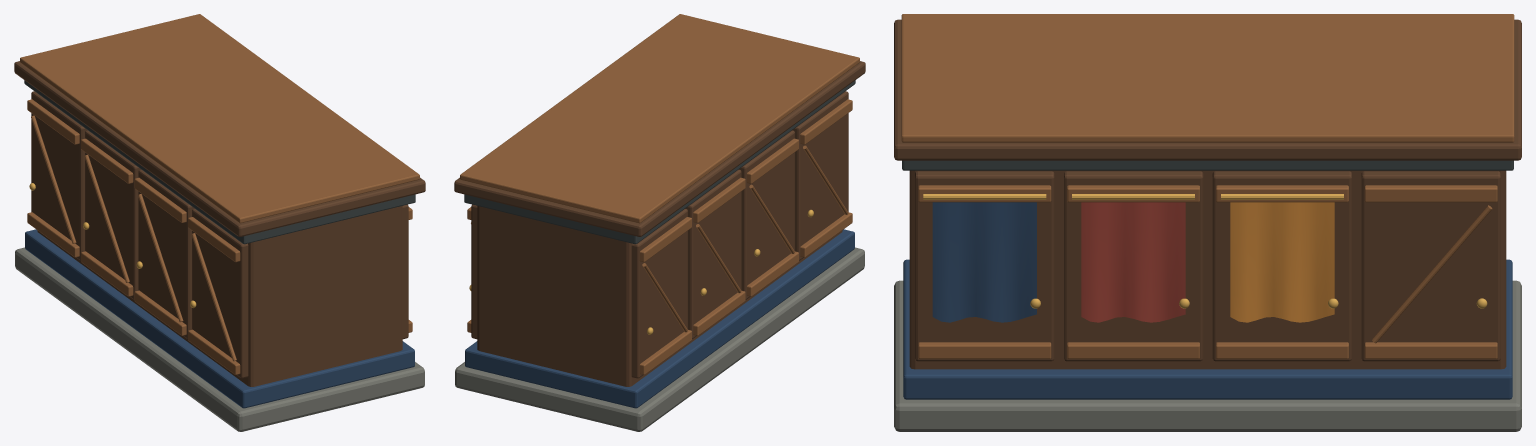
The model's file is cover-dye-cabinet.glb.
3 views of the same model, side by side, from view 1: azimuth 30°, elevation 25°; view 2: azimuth 150°, elevation 25°; view 3: azimuth 270°, elevation 25° (orthographic). The views are drawn at different scales.
Parts seen in each view (by area): view 1: Copper flashing, Shuttered timber case, Cabinet stone feet, Painted toe rail, Capped shutter ridge, Joined door.004, Joined door.005, Joined door.007, Joined door.006, Shadow under eave, Joined door, Framed shutter rail.011 (+11 smaller); view 2: Copper flashing, Shuttered timber case, Cabinet stone feet, Painted toe rail, Joined door.007, Capped shutter ridge, Joined door.004, Joined door.006, Joined door.005, Shadow under eave, Joined door.003, Framed shutter rail.013 (+7 smaller); view 3: Copper flashing, Cabinet stone feet, Joined door.003, Painted toe rail, Shuttered timber case, Capped shutter ridge, Dyed sample | 0, Dyed sample | 1, Dyed sample | 2, Joined door.001, Joined door.002, Joined door (+13 smaller).
Part boxes in pixels (bbox=[...]): Copper flashing: bbox=[20, 14, 419, 223]; Shuttered timber case: bbox=[37, 206, 402, 386]; Cabinet stone feet: bbox=[15, 247, 424, 431]; Painted toe rail: bbox=[25, 229, 414, 408]; Capped shutter ridge: bbox=[14, 61, 425, 236]; Joined door.004: bbox=[192, 209, 248, 378]; Joined door.005: bbox=[138, 169, 194, 338]; Joined door.007: bbox=[31, 91, 87, 260]; Joined door.006: bbox=[85, 130, 140, 299]; Shadow under eave: bbox=[24, 80, 415, 244]; Joined door: bbox=[402, 204, 408, 339]; Framed shutter rail.011: bbox=[134, 177, 186, 222]; Copper flashing: bbox=[460, 14, 859, 223]; Shuttered timber case: bbox=[477, 206, 842, 386]; Cabinet stone feet: bbox=[455, 247, 864, 431]; Painted toe rail: bbox=[465, 229, 854, 408]; Joined door.007: bbox=[631, 209, 687, 378]; Capped shutter ridge: bbox=[454, 61, 865, 236]; Joined door.004: bbox=[792, 91, 848, 260]; Joined door.006: bbox=[685, 169, 741, 338]; Joined door.005: bbox=[739, 130, 794, 299]; Shadow under eave: bbox=[464, 80, 855, 244]; Joined door.003: bbox=[471, 204, 477, 339]; Framed shutter rail.013: bbox=[693, 177, 745, 222]; Copper flashing: bbox=[901, 14, 1514, 142]; Cabinet stone feet: bbox=[894, 280, 1521, 431]; Joined door.003: bbox=[1361, 171, 1500, 361]; Painted toe rail: bbox=[903, 259, 1512, 399]; Shuttered timber case: bbox=[909, 170, 1506, 369]; Capped shutter ridge: bbox=[894, 19, 1521, 160]; Dyed sample | 0: bbox=[932, 202, 1036, 322]; Dyed sample | 1: bbox=[1081, 202, 1185, 322]; Dyed sample | 2: bbox=[1230, 202, 1334, 322]; Joined door.001: bbox=[1064, 171, 1203, 361]; Joined door.002: bbox=[1212, 171, 1351, 361]; Joined door: bbox=[915, 171, 1054, 361].
Size of the model in its own units: 2.4 by 2.6 by 5.
